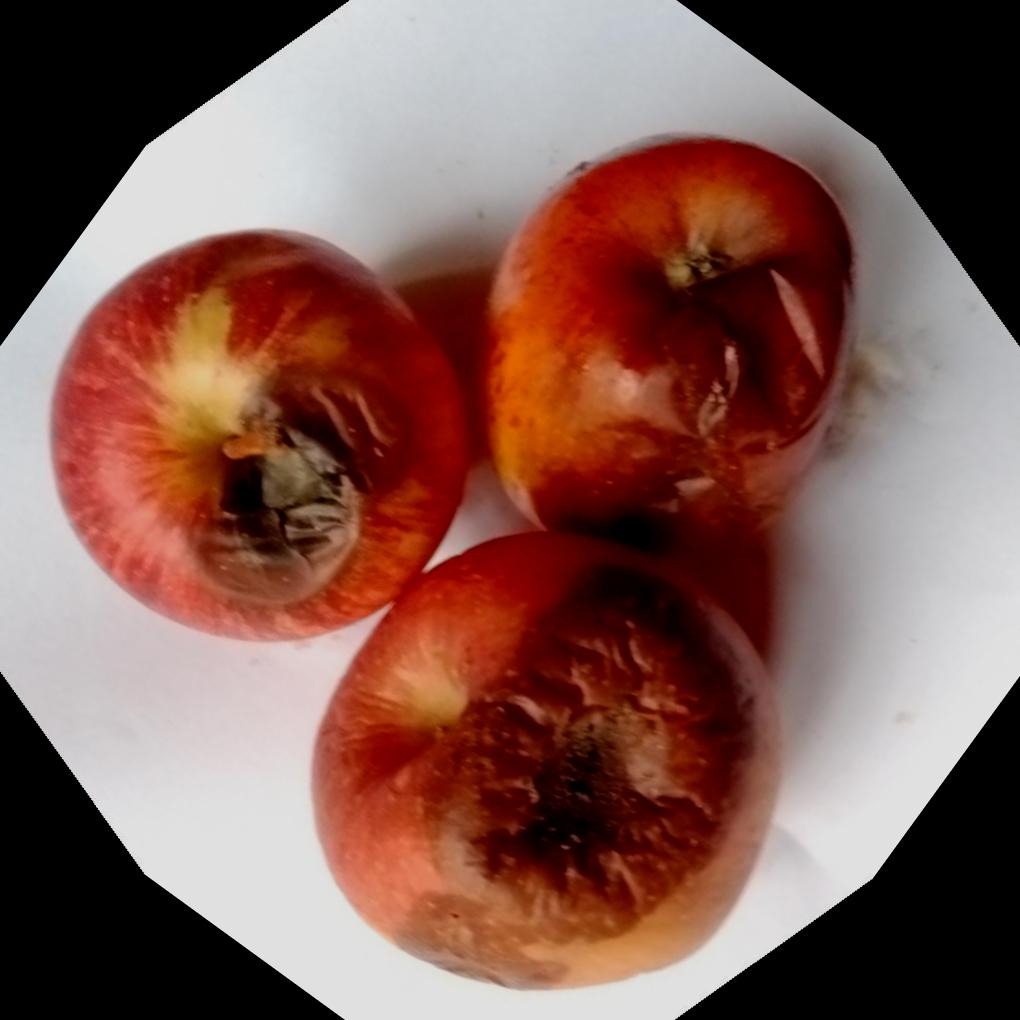FreshOrange: (45, 134, 852, 991)
